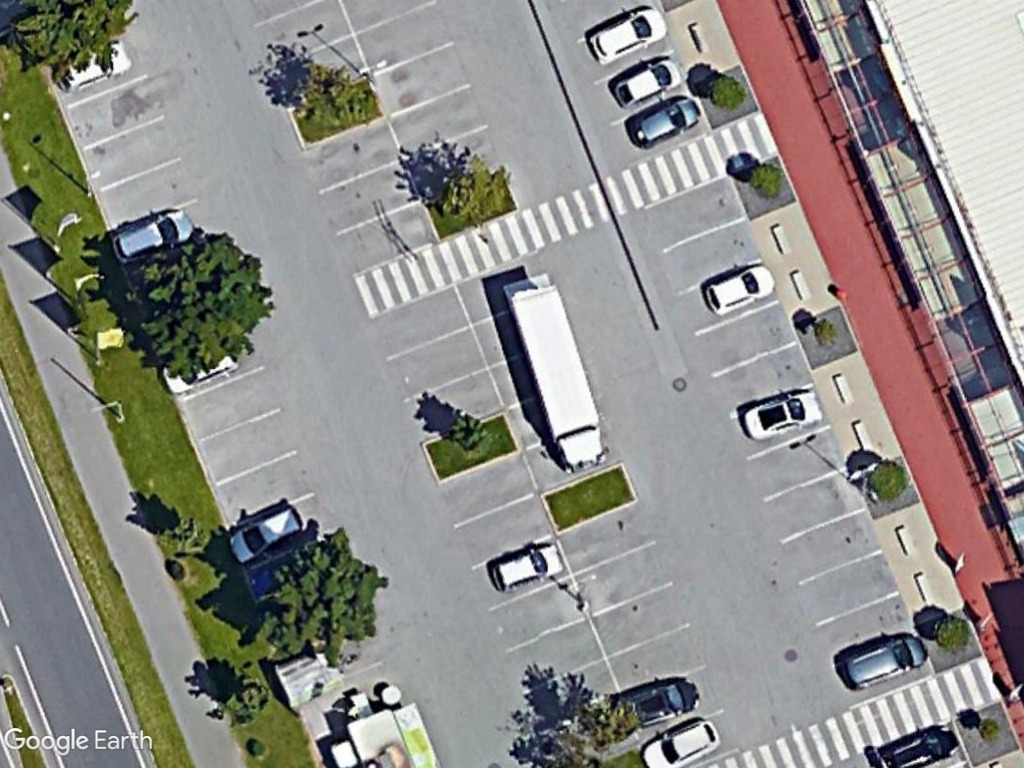car: (835, 632, 934, 694), (580, 0, 669, 68), (223, 497, 309, 566), (607, 45, 689, 115), (108, 202, 200, 264), (734, 384, 826, 446), (633, 712, 728, 768), (698, 258, 780, 318), (623, 93, 705, 153), (484, 541, 565, 595)
truck: (495, 275, 613, 478)
